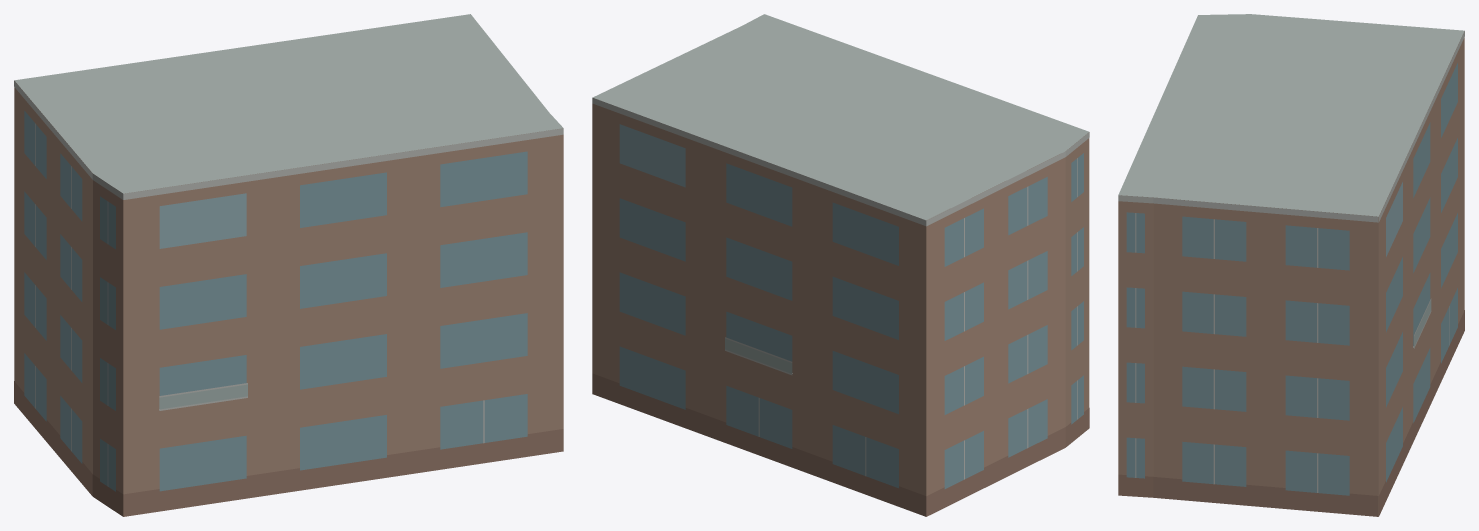
Rendered from survey-upis-32976644.glb.
The picture shows the model from 3 angles, left to right: view 1: azimuth 30°, elevation 25°; view 2: azimuth 150°, elevation 25°; view 3: azimuth 270°, elevation 25°; orthographic projection. The views are drawn at different scales.
Visible parts, largest first — view 1: survey-upis-32976644.tmp; view 2: survey-upis-32976644.tmp; view 3: survey-upis-32976644.tmp.
Part boxes in pixels (bbox=[...]): survey-upis-32976644.tmp: bbox=[14, 14, 563, 516]; survey-upis-32976644.tmp: bbox=[592, 14, 1089, 516]; survey-upis-32976644.tmp: bbox=[1118, 14, 1464, 516].
Bounding box in the file's own units: 17.66 × 12.2 × 12.77.
